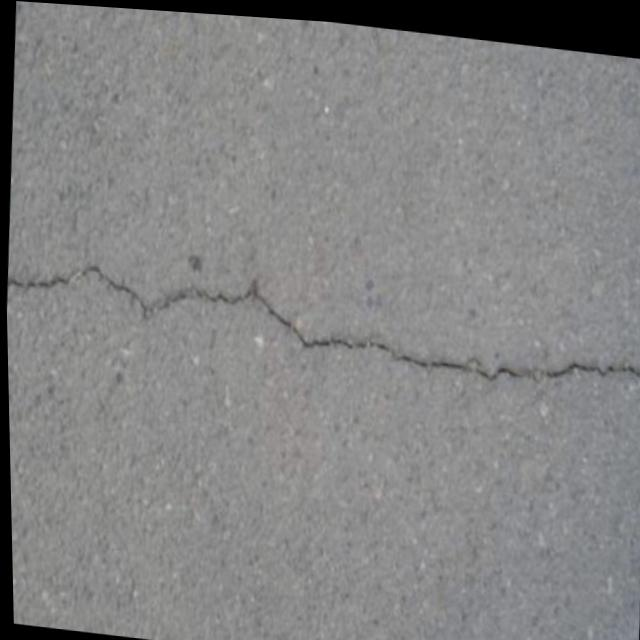Crack: (4, 232, 640, 408)
